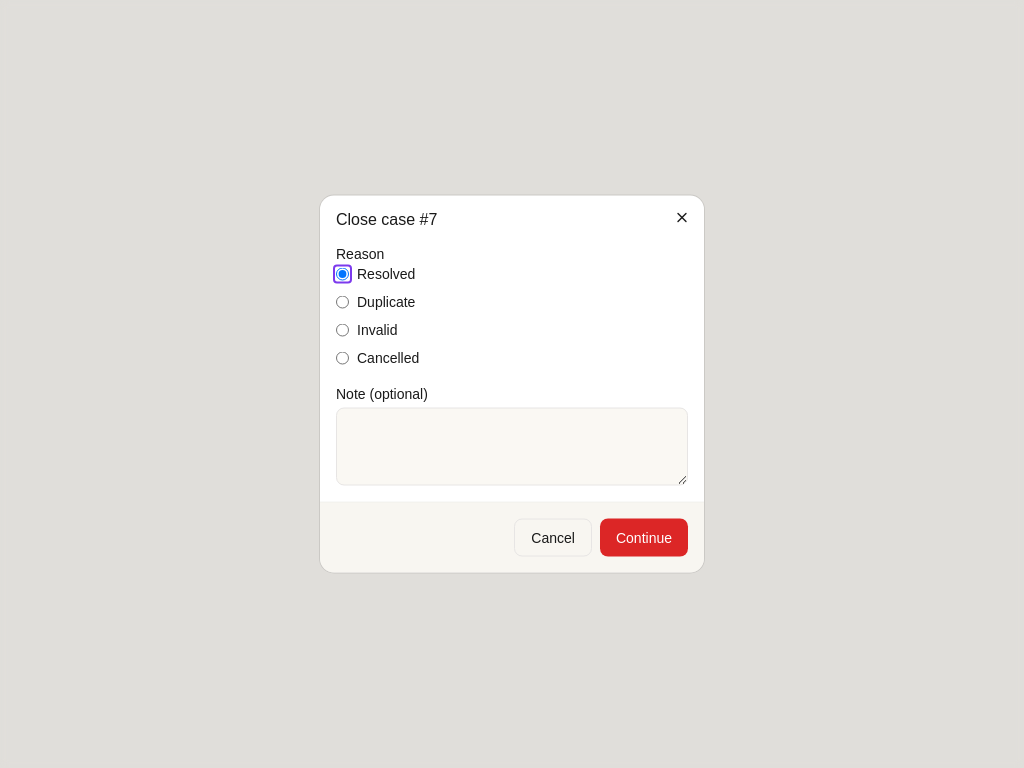
Test: CloseCaseDialog › requires a note for non-resolved reasons
Click the radio button labelled "Duplicate" at (342, 302), box [336,295,349,308]
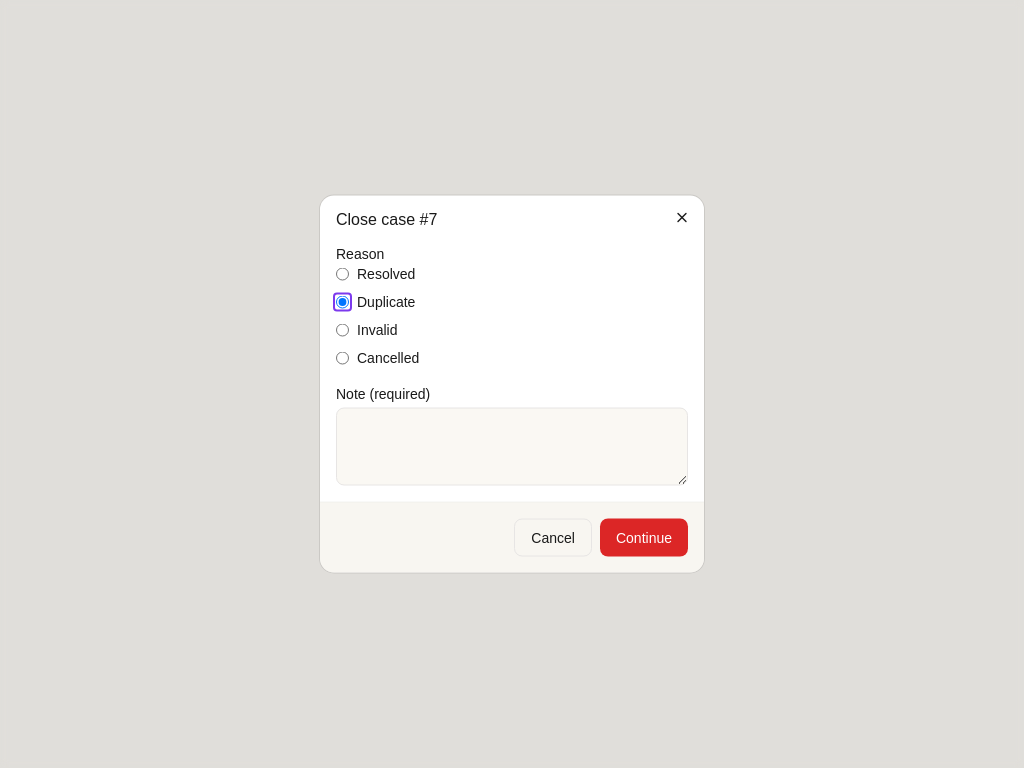
Click the button "Continue" at (644, 538), box [600,518,688,556]
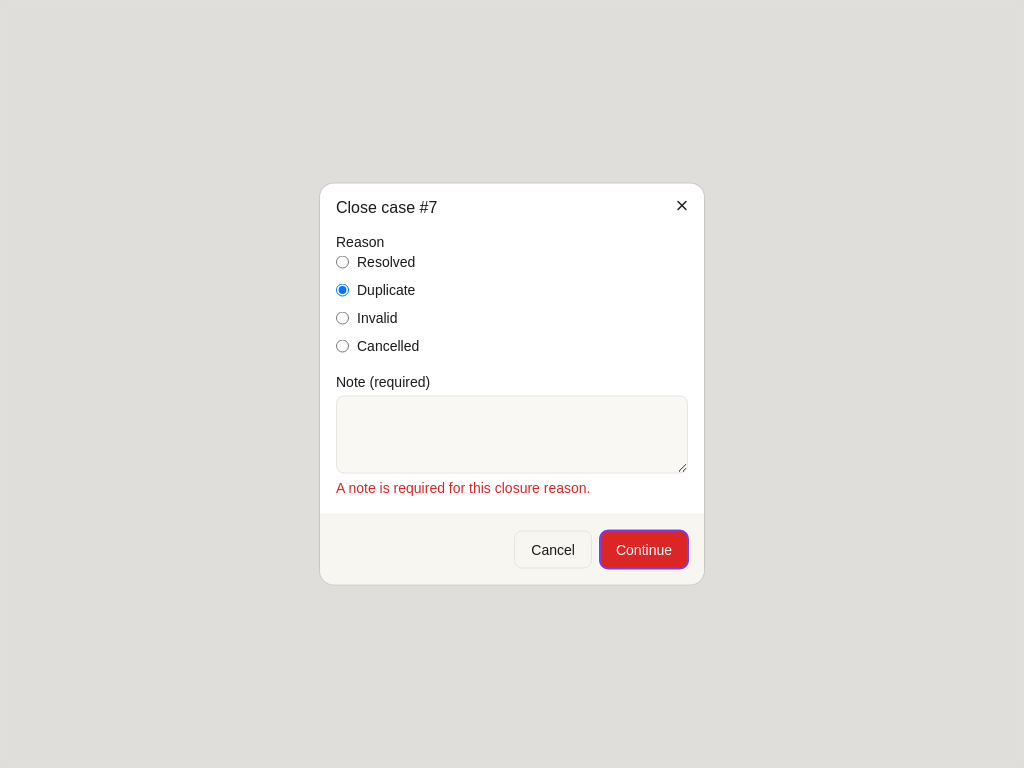
Now the text "A note is required for this closure reason." is shown, box [336,480,590,496]
